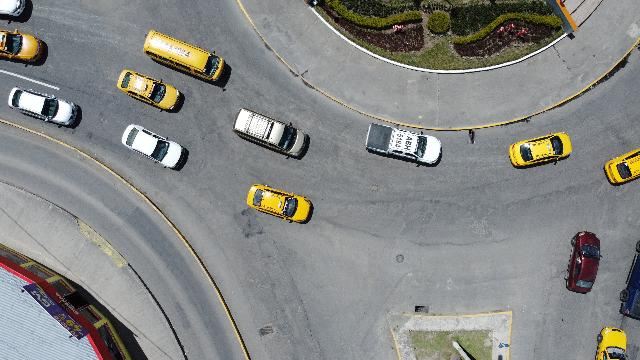Vehiculo: (143, 30, 225, 82), (232, 108, 308, 156), (364, 123, 442, 165), (121, 124, 185, 170), (8, 86, 76, 126), (247, 184, 313, 224), (116, 70, 180, 110), (564, 231, 602, 293), (508, 132, 572, 168), (620, 240, 640, 320), (1, 29, 44, 63), (604, 148, 640, 186), (595, 326, 627, 359)
